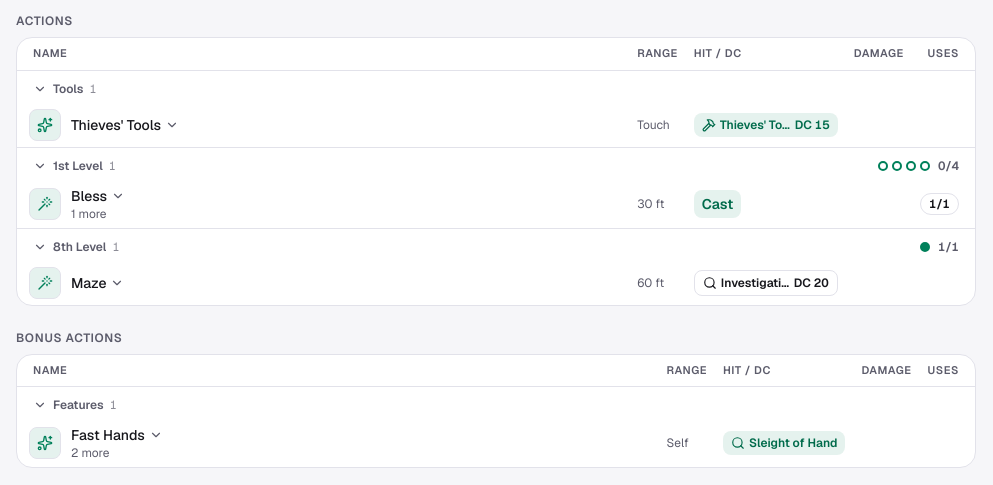
action-entry: checks activities ask for, and activities that use others › shows its check in a table too, in its column
Click the button with aria-label "Maze, DC 20 Intelligence (Investigation) check".
click(766, 283)  # box [694,270,838,296]
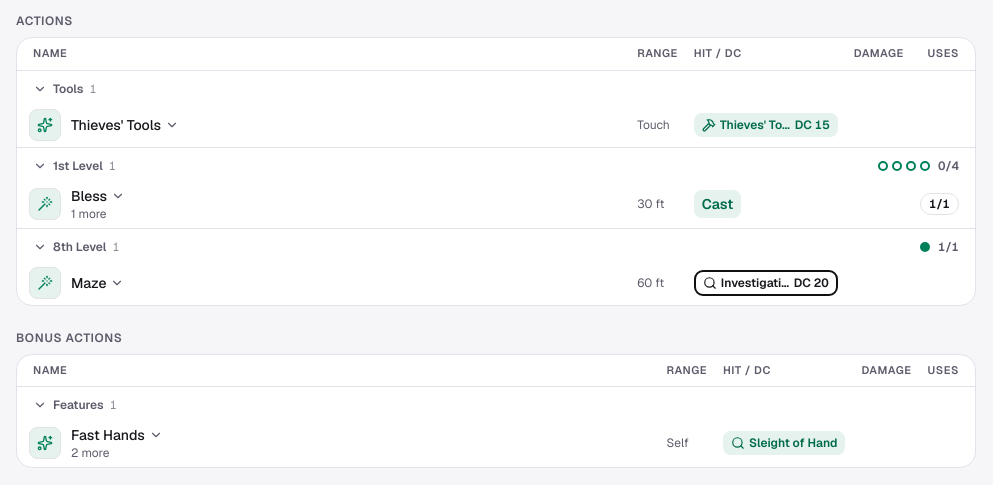
Click the button with aria-label "Thieves' Tools, DC 15".
click(766, 125)  # box [694,113,838,137]
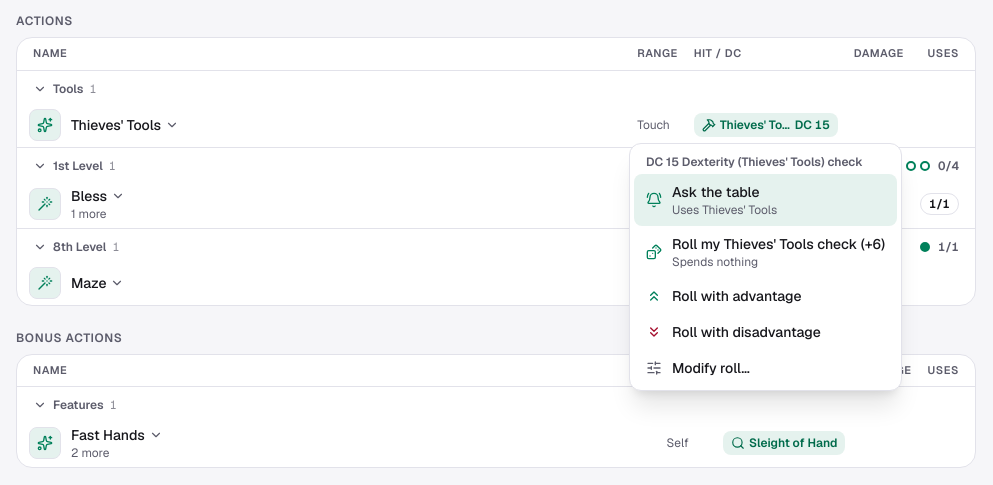
Check: the menu is shown, box [629,143,902,391]
